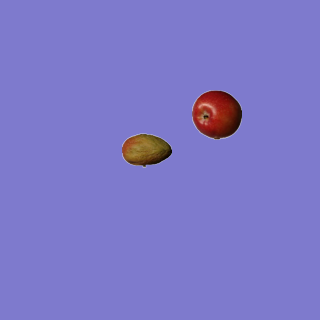Apple Braeburn: (191, 89, 241, 139)
Papaya: (121, 125, 171, 175)
